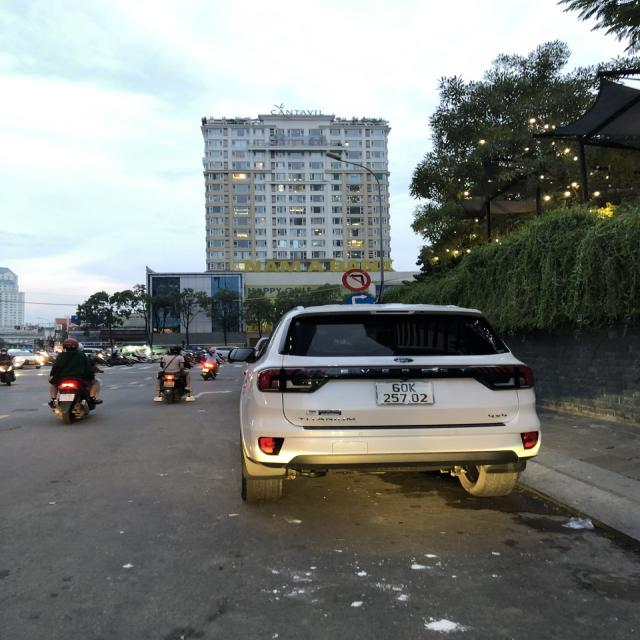Bien bao cam re trai: (337, 268, 378, 293)
